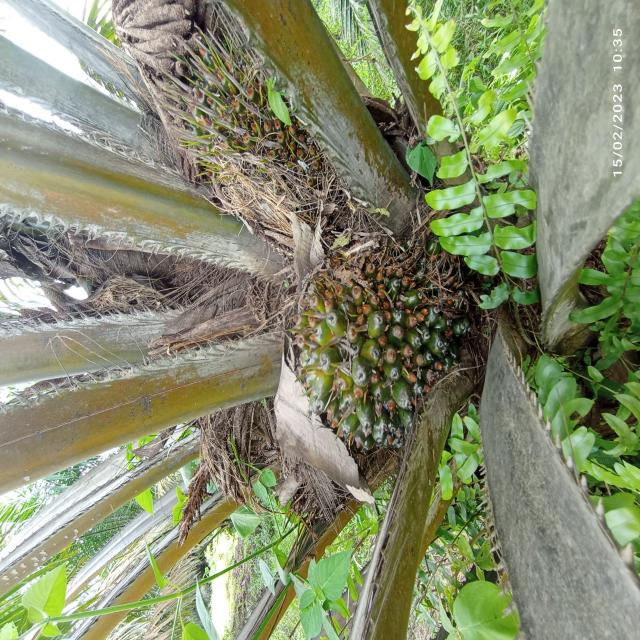fraksi 00: (252, 212, 502, 468)
